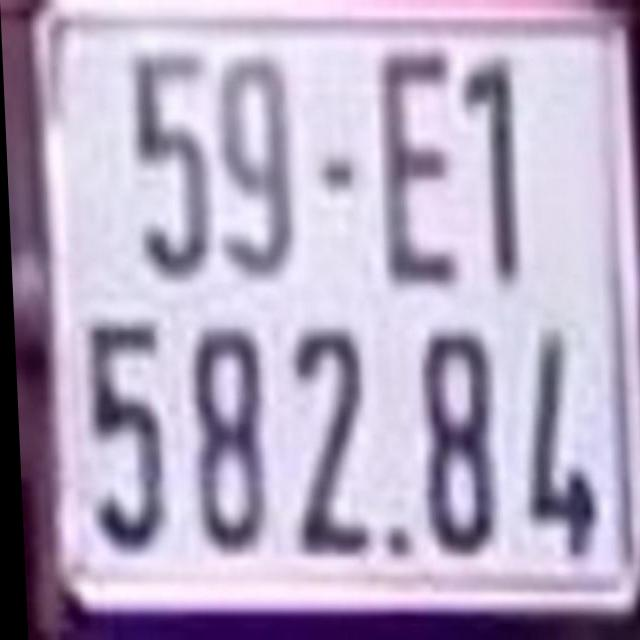1: (466, 52, 517, 276)
2: (287, 328, 362, 553)
4: (523, 324, 595, 550)
5: (84, 322, 163, 545), (132, 50, 206, 269)
8: (413, 322, 494, 554), (190, 327, 263, 547)
9: (215, 57, 295, 265)
E: (372, 51, 464, 295)
